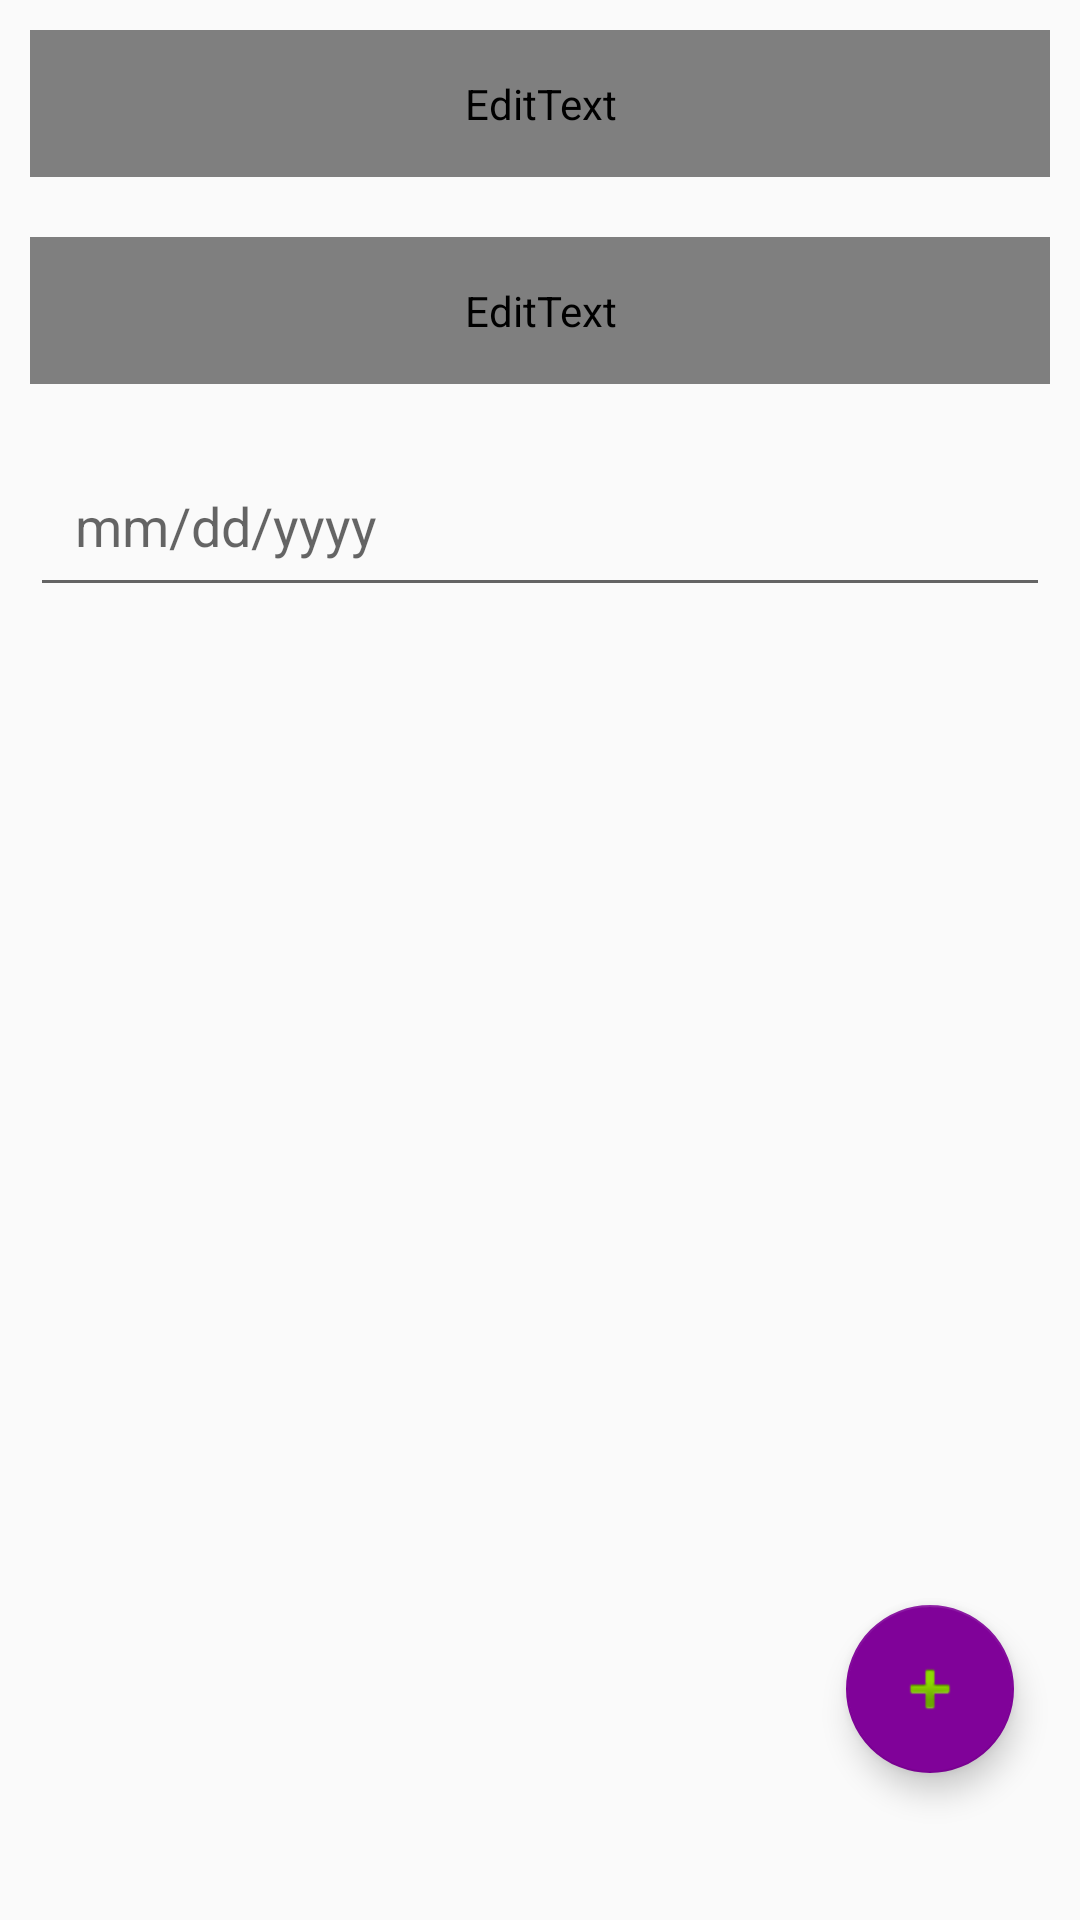

Screen size 1080px x 1920px. Icon name, then its center in pixels as point (x, y):
add: point (930, 1689)
